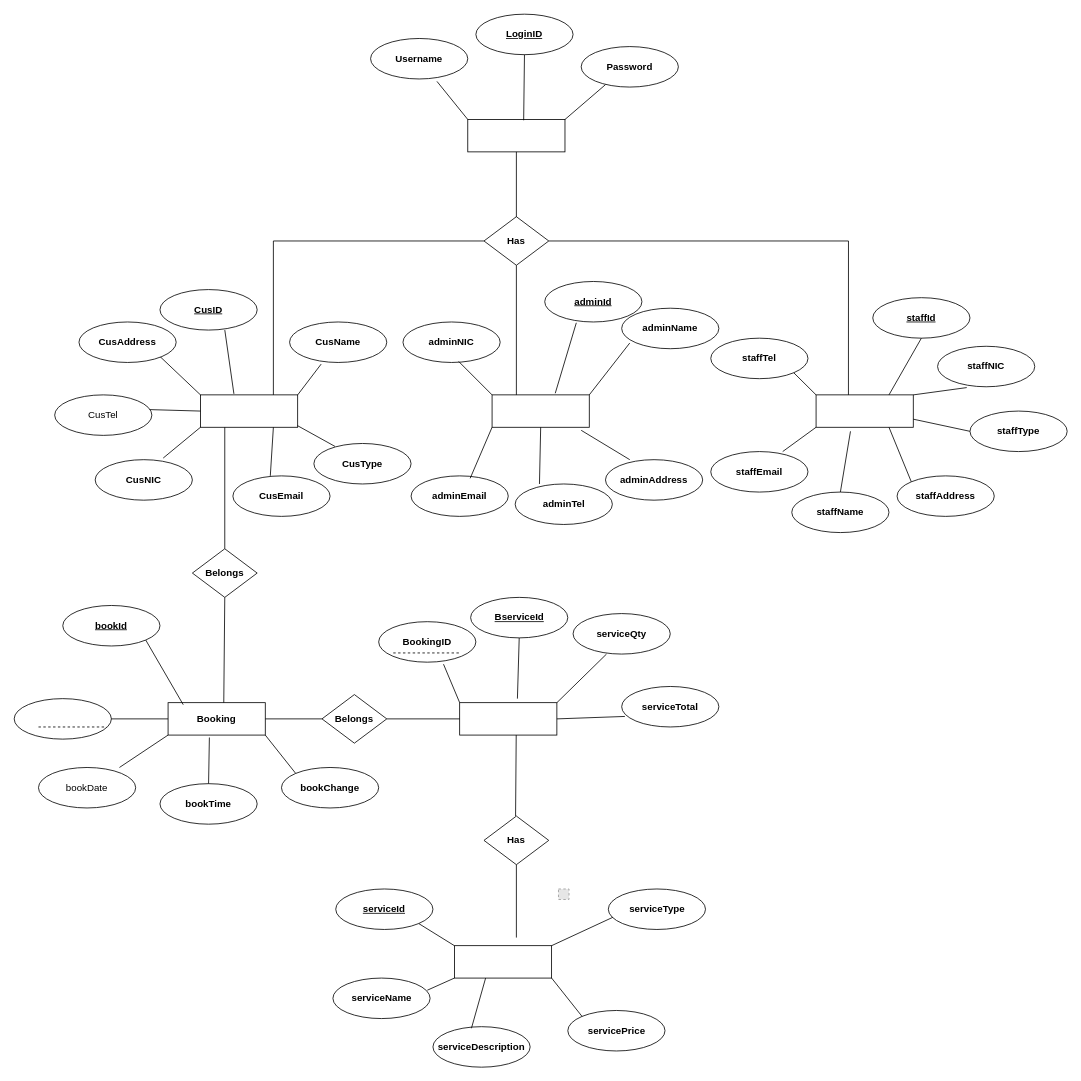
The diagram is 1081 pixels wide and 1081 high, and some of its shapes have lost their labels. Grey dashed boxes stand in for pictures. Each missing label, with the centre of its shape:
"Admiin" goes at [540,410].
"BookingServices" goes at [508,718].
"Customer" goes at [249,410].
"customerId" goes at [62,718].
"Login" goes at [516,135].
"SalonServices" goes at [503,961].
"Staff" goes at [864,410].
